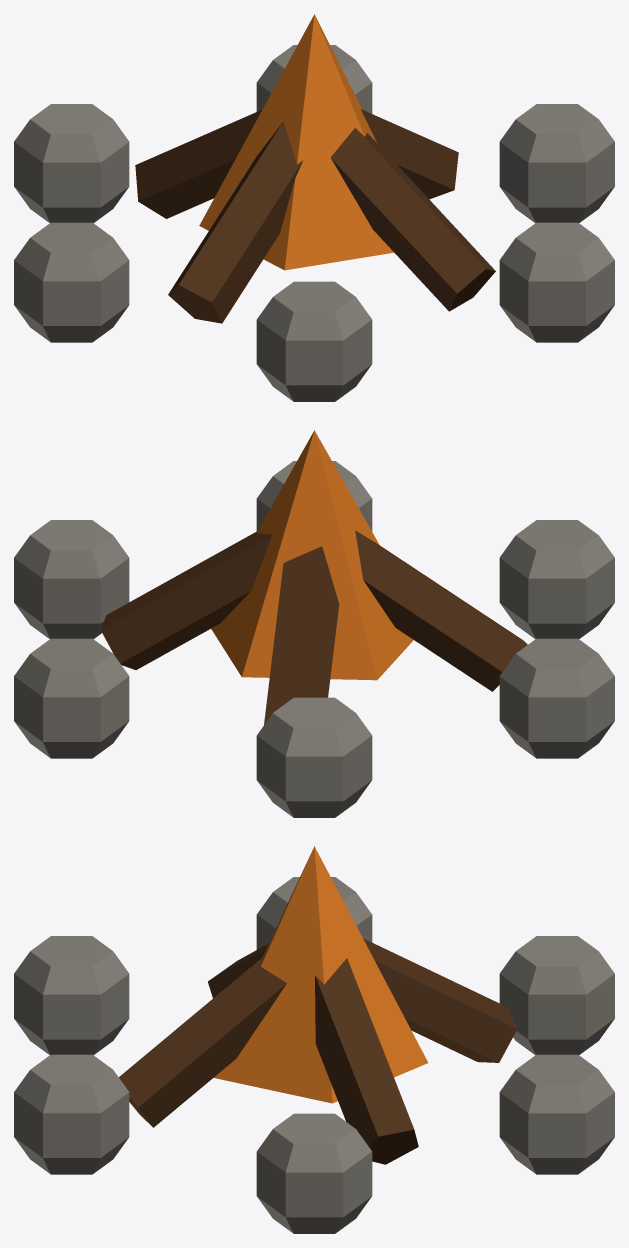
The model's file is bonfire.glb.
3 renders of one model, top to bottom at view 1: azimuth 30°, elevation 25°; view 2: azimuth 150°, elevation 25°; view 3: azimuth 270°, elevation 25°, orthographic.
Parts seen in each view (by area): view 1: bonfire; view 2: bonfire; view 3: bonfire.
Boxes of the visible parts, x1=… form: bonfire: x1=14, y1=14, x2=614, y2=401; bonfire: x1=14, y1=430, x2=614, y2=817; bonfire: x1=14, y1=846, x2=614, y2=1233.
Bounding box in the file's own units: 0.4006 × 0.17 × 0.3644.
